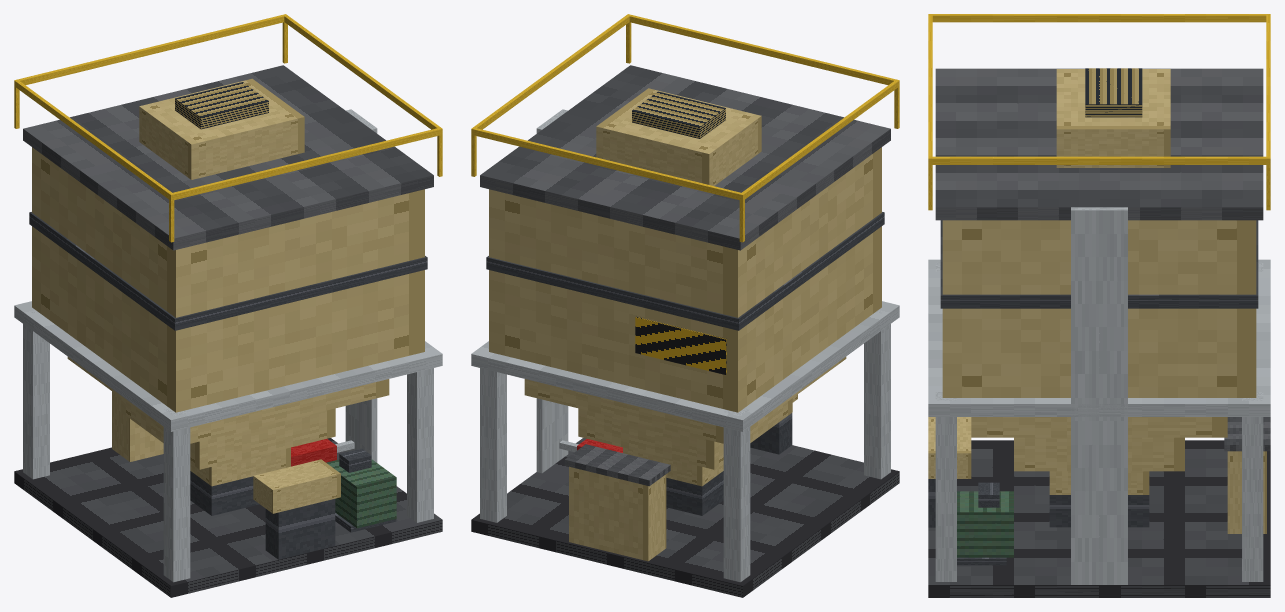
Rendered from overhead_loader.obj.
The picture shows the model from 3 angles, left to right: view 1: azimuth 30°, elevation 25°; view 2: azimuth 150°, elevation 25°; view 3: azimuth 270°, elevation 25°; orthographic projection. The views are drawn at different scales.
Parts seen in each view (by area): view 1: bin, roof, deck, filter, ring_beam, bin_band, cone_2, leg2, leg3, leg0, cone_1, feed_funnel (+13 smaller); view 2: bin, roof, deck, ring_beam, filter, cabinet, bin_band, cone_2, leg0, leg1, leg2, cone_1 (+11 smaller); view 3: bin, roof, deck, ladder, ring_beam, filter, bin_band, cone_1, cone_2, leg3, leg1, motor (+11 smaller).
Part boxes in pixels (x1=…): bin: x1=32, y1=147, x2=424, y2=412; roof: x1=23, y1=65, x2=433, y2=250; deck: x1=14, y1=438, x2=442, y2=597; filter: x1=139, y1=78, x2=304, y2=179; ring_beam: x1=14, y1=301, x2=442, y2=431; bin_band: x1=29, y1=212, x2=427, y2=330; cone_2: x1=121, y1=398, x2=335, y2=469; leg2: x1=163, y1=408, x2=190, y2=582; leg3: x1=407, y1=368, x2=433, y2=522; leg0: x1=23, y1=310, x2=49, y2=479; cone_1: x1=67, y1=357, x2=389, y2=443; feed_funnel: x1=253, y1=459, x2=340, y2=513; bin: x1=489, y1=147, x2=881, y2=412; roof: x1=480, y1=65, x2=890, y2=250; deck: x1=471, y1=438, x2=899, y2=597; ring_beam: x1=471, y1=301, x2=899, y2=431; filter: x1=596, y1=88, x2=761, y2=185; cabinet: x1=569, y1=466, x2=666, y2=561; bin_band: x1=486, y1=212, x2=884, y2=330; cone_2: x1=578, y1=398, x2=792, y2=469; leg0: x1=723, y1=408, x2=750, y2=582; leg1: x1=480, y1=368, x2=506, y2=522; leg2: x1=864, y1=310, x2=890, y2=479; cone_1: x1=524, y1=357, x2=846, y2=443; bin: x1=942, y1=220, x2=1256, y2=397; roof: x1=935, y1=68, x2=1263, y2=220; deck: x1=928, y1=440, x2=1270, y2=597; ladder: x1=1071, y1=207, x2=1127, y2=584; ring_beam: x1=928, y1=259, x2=1270, y2=416; filter: x1=1056, y1=69, x2=1170, y2=167; bin_band: x1=940, y1=220, x2=1258, y2=308; cone_1: x1=971, y1=417, x2=1227, y2=437; cone_2: x1=1014, y1=437, x2=1184, y2=471; leg3: x1=935, y1=392, x2=956, y2=581; leg1: x1=1242, y1=392, x2=1263, y2=581; motor: x1=957, y1=491, x2=1013, y2=557.
Bounding box in the file's own units: 3 × 4.25 × 3.
